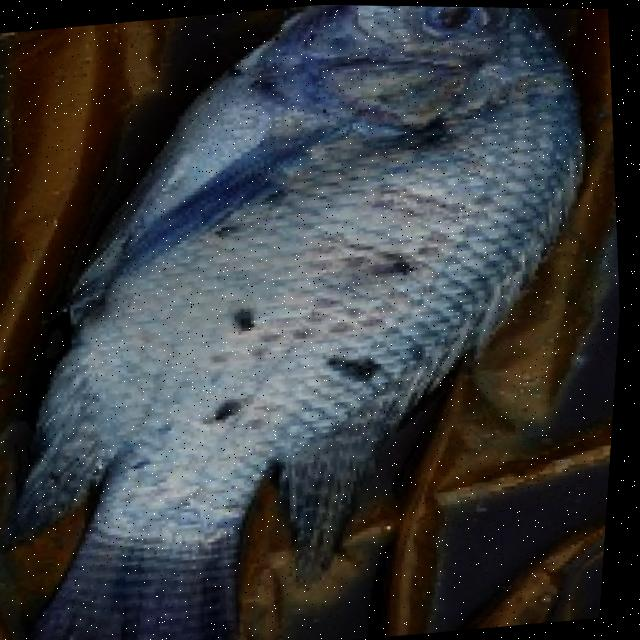Non-Fresh: (200, 3, 604, 373)
